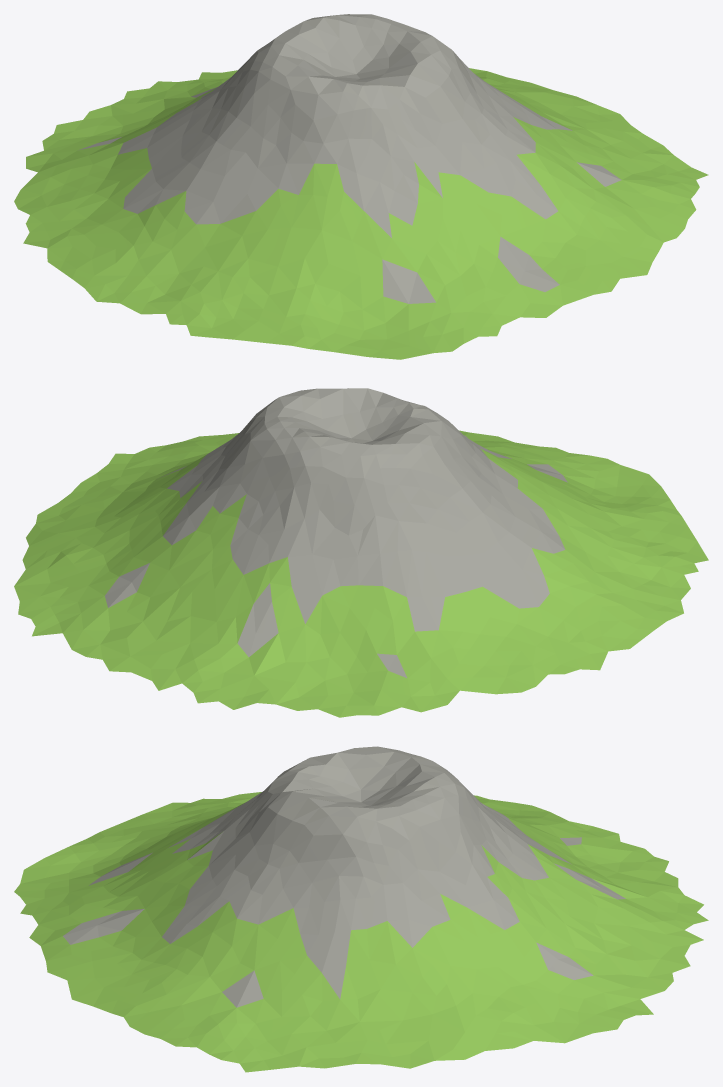
The model's file is mountain_l_a_11.glb.
3 renders of one model, top to bottom at view 1: azimuth 30°, elevation 25°; view 2: azimuth 150°, elevation 25°; view 3: azimuth 270°, elevation 25°, orthographic.
Parts seen in each view (by area): view 1: CPT_Mountain_L_a_11; view 2: CPT_Mountain_L_a_11; view 3: CPT_Mountain_L_a_11.
Part boxes in pixels (x1,y1,x2,y2): CPT_Mountain_L_a_11: (14, 14, 708, 359); CPT_Mountain_L_a_11: (14, 388, 708, 717); CPT_Mountain_L_a_11: (14, 746, 708, 1072).
Size of the model in its own units: 86.33 by 22.23 by 89.06.
Materials: 1 (1 with a texture image).
